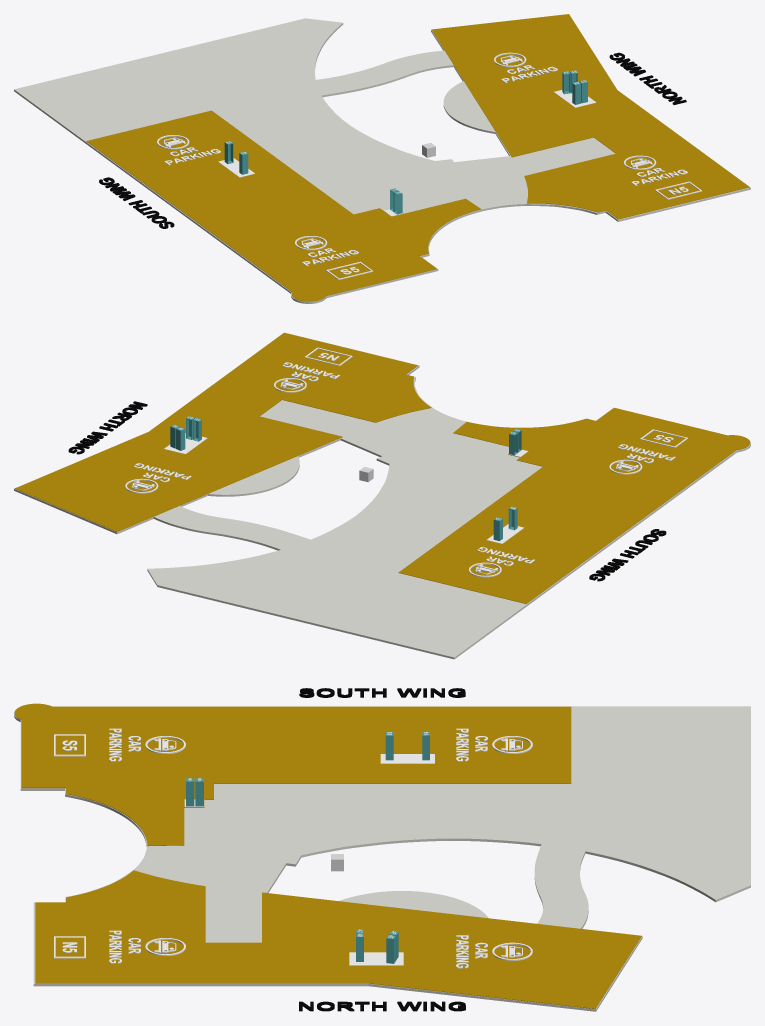
File: floor-5.glb
3 views of the same model, one above another, from view 1: azimuth 30°, elevation 25°; view 2: azimuth 150°, elevation 25°; view 3: azimuth 270°, elevation 25° (orthographic). The views are drawn at different scales.
Parts seen in each view (by area): view 1: Fifth floor; view 2: Fifth floor; view 3: Fifth floor.
Boxes of the visible parts, x1=… form: Fifth floor: x1=14, y1=14, x2=750, y2=303; Fifth floor: x1=14, y1=332, x2=750, y2=659; Fifth floor: x1=14, y1=688, x2=750, y2=1011.
Bounding box in the file's own units: 117 × 5.79 × 113.
